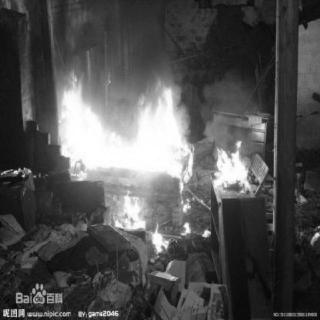Fire: (56, 67, 198, 175), (110, 190, 190, 242), (212, 139, 255, 197)
